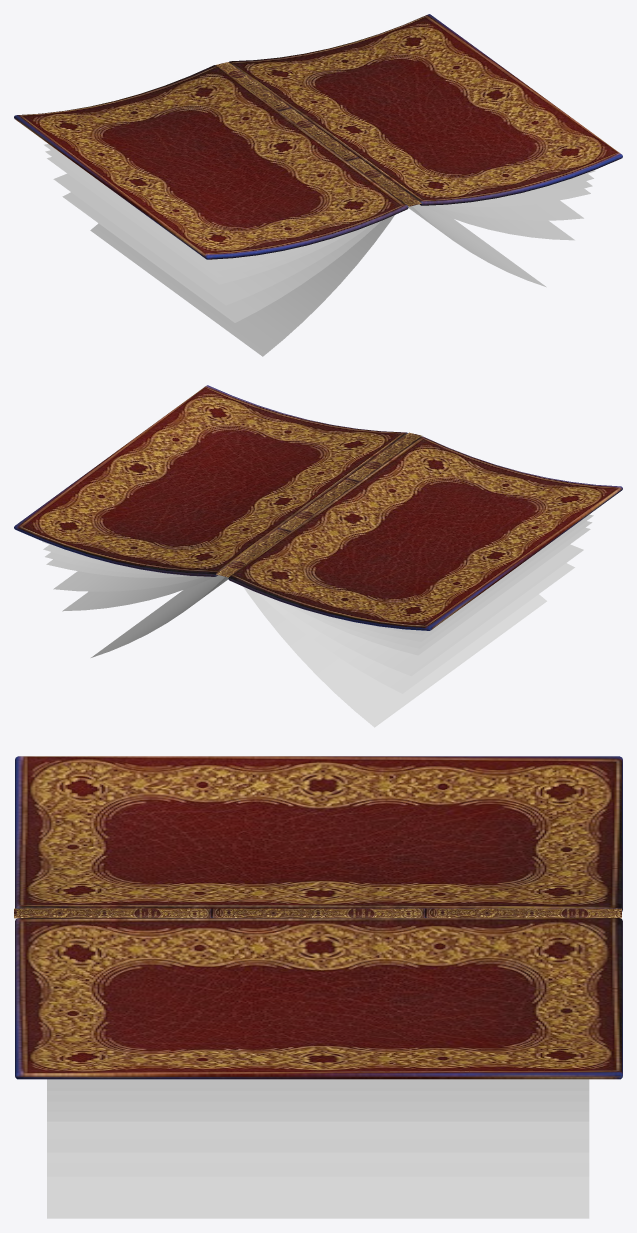
Rendered from Flying book with texture.fbx.
3 views of the same model, one above another, from view 1: azimuth 30°, elevation 25°; view 2: azimuth 150°, elevation 25°; view 3: azimuth 270°, elevation 25° (orthographic). The views are drawn at different scales.
Parts seen in each view (by area): view 1: ChamferBox001, ChamferBox002, Plane021, Plane019, Plane020, Plane015, Plane028, Plane026, Plane027, Plane018, Plane017, Plane016 (+3 smaller); view 2: ChamferBox001, ChamferBox002, Plane021, Plane019, Plane020, Plane015, Plane028, Plane026, Plane027, Plane018, Plane017, Plane016 (+3 smaller); view 3: ChamferBox002, ChamferBox001, Plane028, Plane026, Plane027, Plane022, Plane015, Plane023, Plane024, Plane025.
Boxes of the visible parts, box(x1,y1,x2,y2) form: ChamferBox001: box(14, 65, 408, 259); ChamferBox002: box(229, 14, 622, 205); Plane021: box(90, 215, 394, 356); Plane019: box(53, 173, 370, 305); Plane020: box(62, 192, 381, 322); Plane015: box(216, 62, 421, 206); Plane028: box(408, 204, 546, 287); Plane026: box(431, 200, 583, 220); Plane027: box(422, 205, 574, 240); Plane018: box(47, 157, 352, 284); Plane017: box(45, 150, 338, 277); Plane016: box(44, 144, 317, 270); ChamferBox001: box(228, 436, 622, 630); ChamferBox002: box(14, 385, 407, 576); Plane021: box(243, 586, 546, 727); Plane019: box(268, 544, 583, 676); Plane020: box(257, 563, 574, 693); Plane015: box(216, 432, 421, 577); Plane028: box(91, 575, 228, 657); Plane026: box(53, 571, 204, 591); Plane027: box(62, 576, 213, 611); Plane018: box(287, 527, 590, 655); Plane017: box(302, 521, 592, 648); Plane016: box(324, 514, 593, 641); ChamferBox002: box(15, 918, 622, 1079); ChamferBox001: box(15, 756, 622, 911); Plane028: box(47, 1176, 589, 1218); Plane026: box(47, 1121, 589, 1152); Plane027: box(47, 1152, 589, 1176); Plane022: box(47, 1079, 589, 1090); Plane015: box(14, 908, 621, 918); Plane023: box(47, 1091, 589, 1101); Plane024: box(47, 1101, 589, 1111); Plane025: box(47, 1111, 589, 1121).
Size of the model in its own units: 80.26 by 64.67 by 23.08.
Materials: 2 (2 with a texture image).
